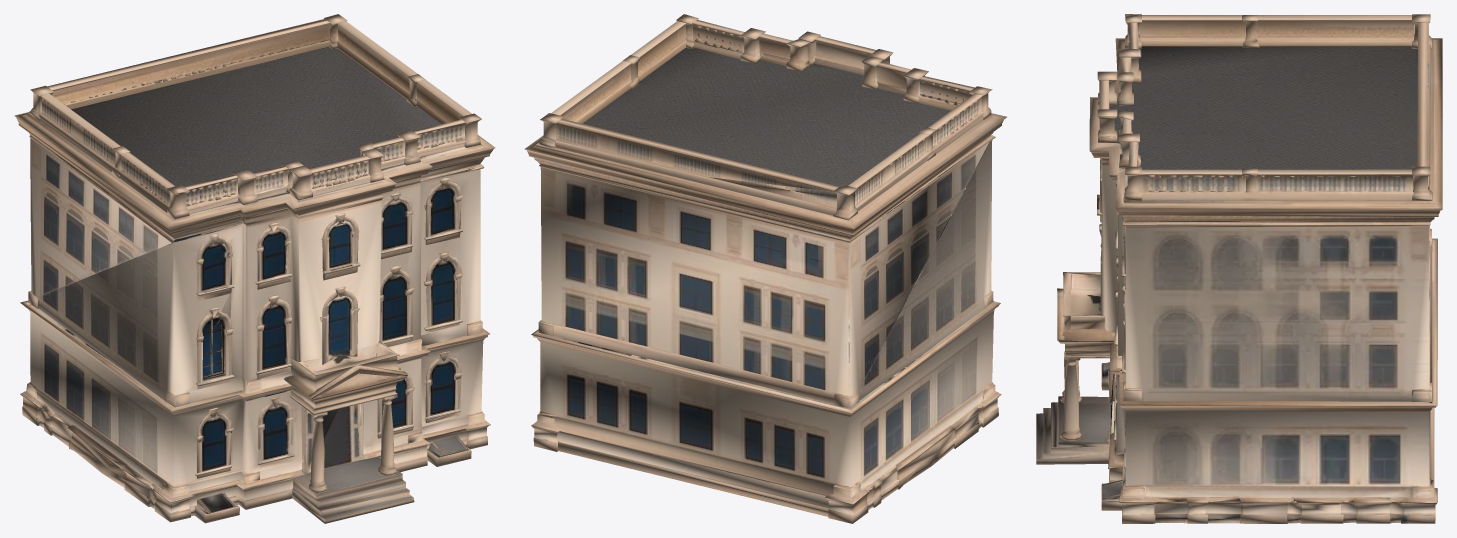
3 renders of one model, left to right at view 1: azimuth 30°, elevation 25°; view 2: azimuth 150°, elevation 25°; view 3: azimuth 270°, elevation 25°, orthographic. The views are drawn at different scales.
Bounding box in the file's own units: 0.9507 × 0.9004 × 0.9531.
1 material, 1 textured.
